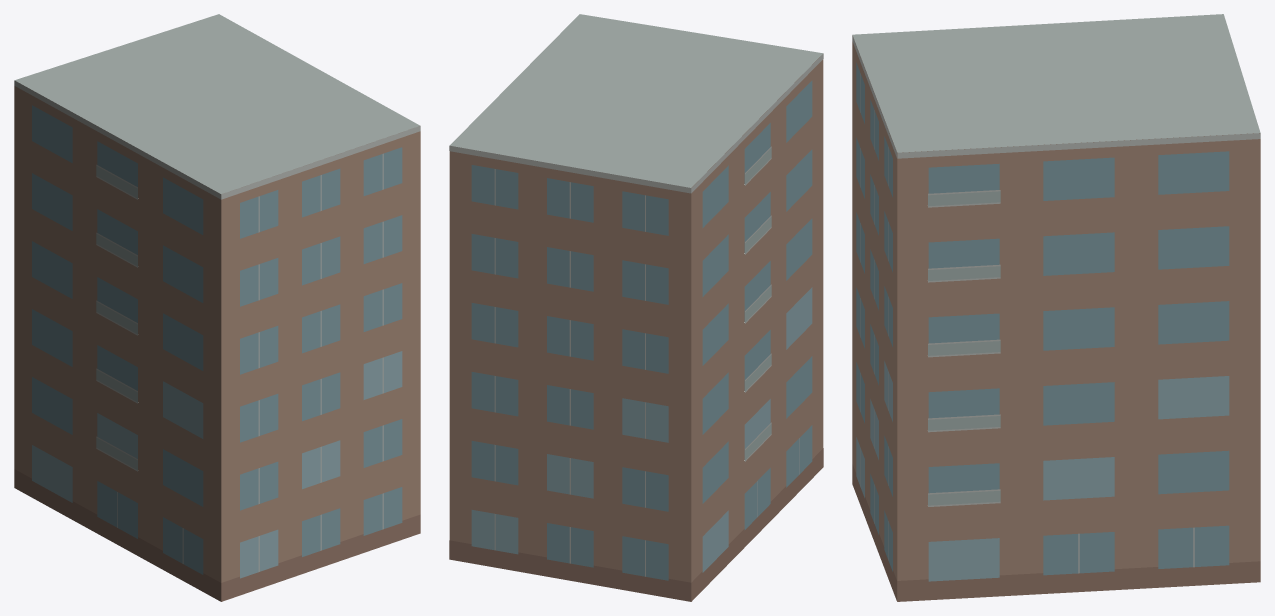
Rendered from survey-upis-32628594.glb.
3 views of the same model, side by side, from view 1: azimuth 30°, elevation 25°; view 2: azimuth 150°, elevation 25°; view 3: azimuth 270°, elevation 25° (orthographic). The views are drawn at different scales.
Visible parts, largest first — view 1: survey-upis-32628594.tmp; view 2: survey-upis-32628594.tmp; view 3: survey-upis-32628594.tmp.
Part boxes in pixels (x1=…): survey-upis-32628594.tmp: x1=14, y1=14, x2=420, y2=601; survey-upis-32628594.tmp: x1=449, y1=14, x2=823, y2=601; survey-upis-32628594.tmp: x1=852, y1=14, x2=1260, y2=601.
Bounding box in the file's own units: 12.13 × 18.3 × 15.09.
